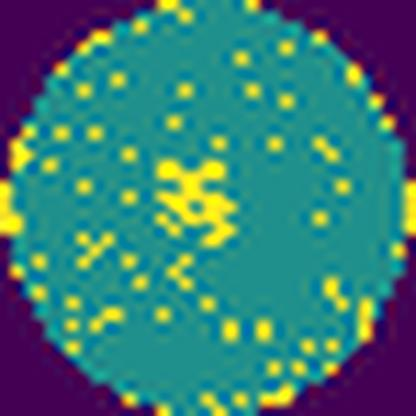Center: (150, 154, 239, 249)
